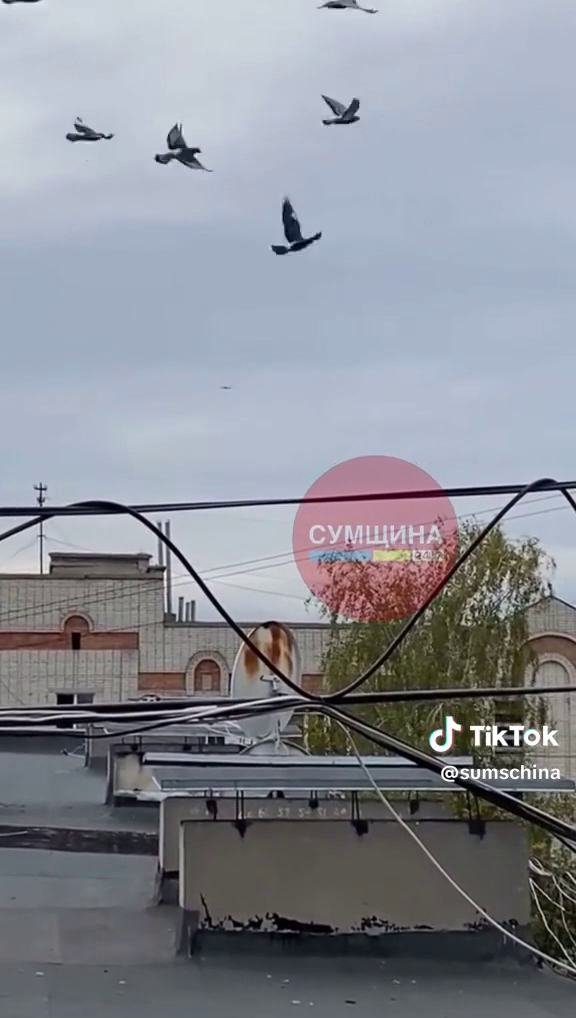not_drone: (261, 187, 331, 261), (64, 112, 118, 148)
